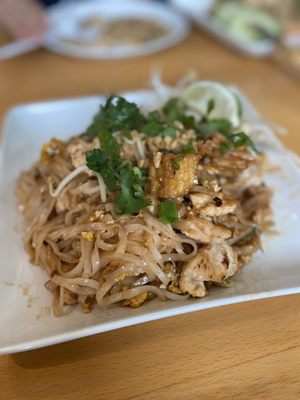curry: (85, 148, 151, 215)
sushi: (44, 0, 193, 62)
